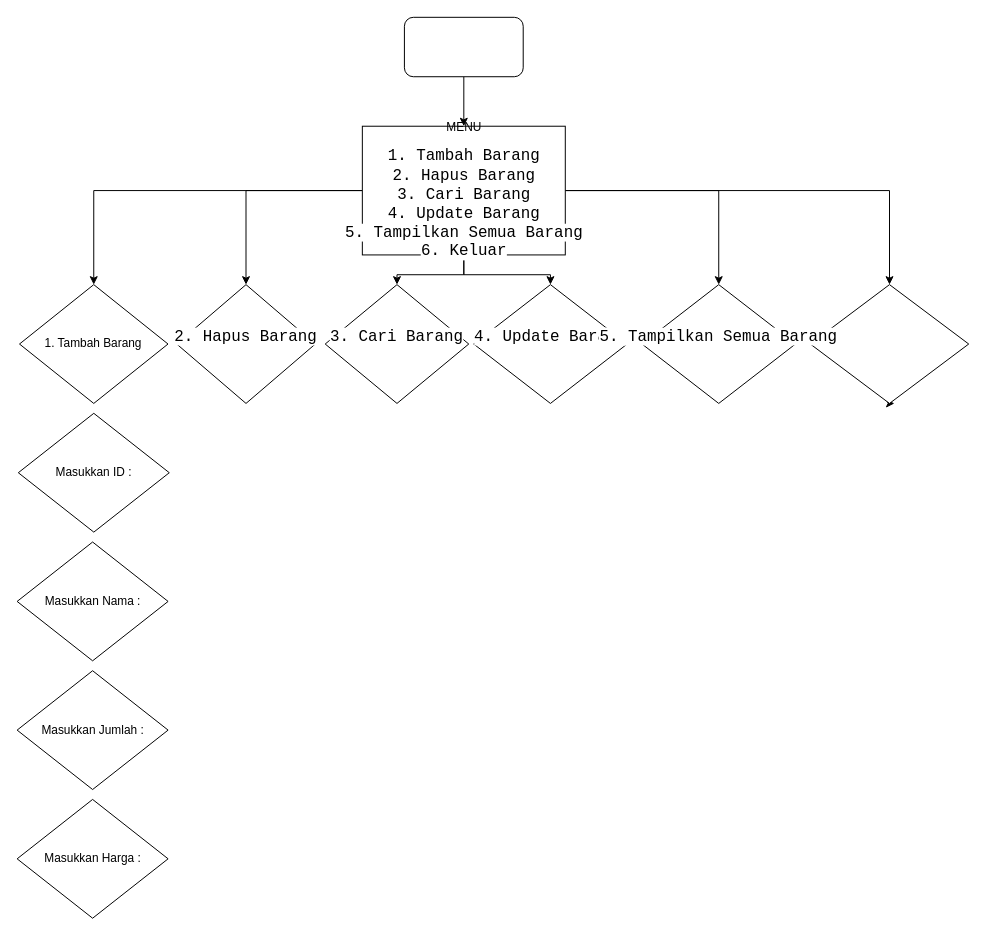
This 987x936 diagram has some shape labels left out. Here are the shapes that lost their labels. From the top down, the centre of each, then its label:
point (463, 46): START
point (889, 343): 6. Keluar
